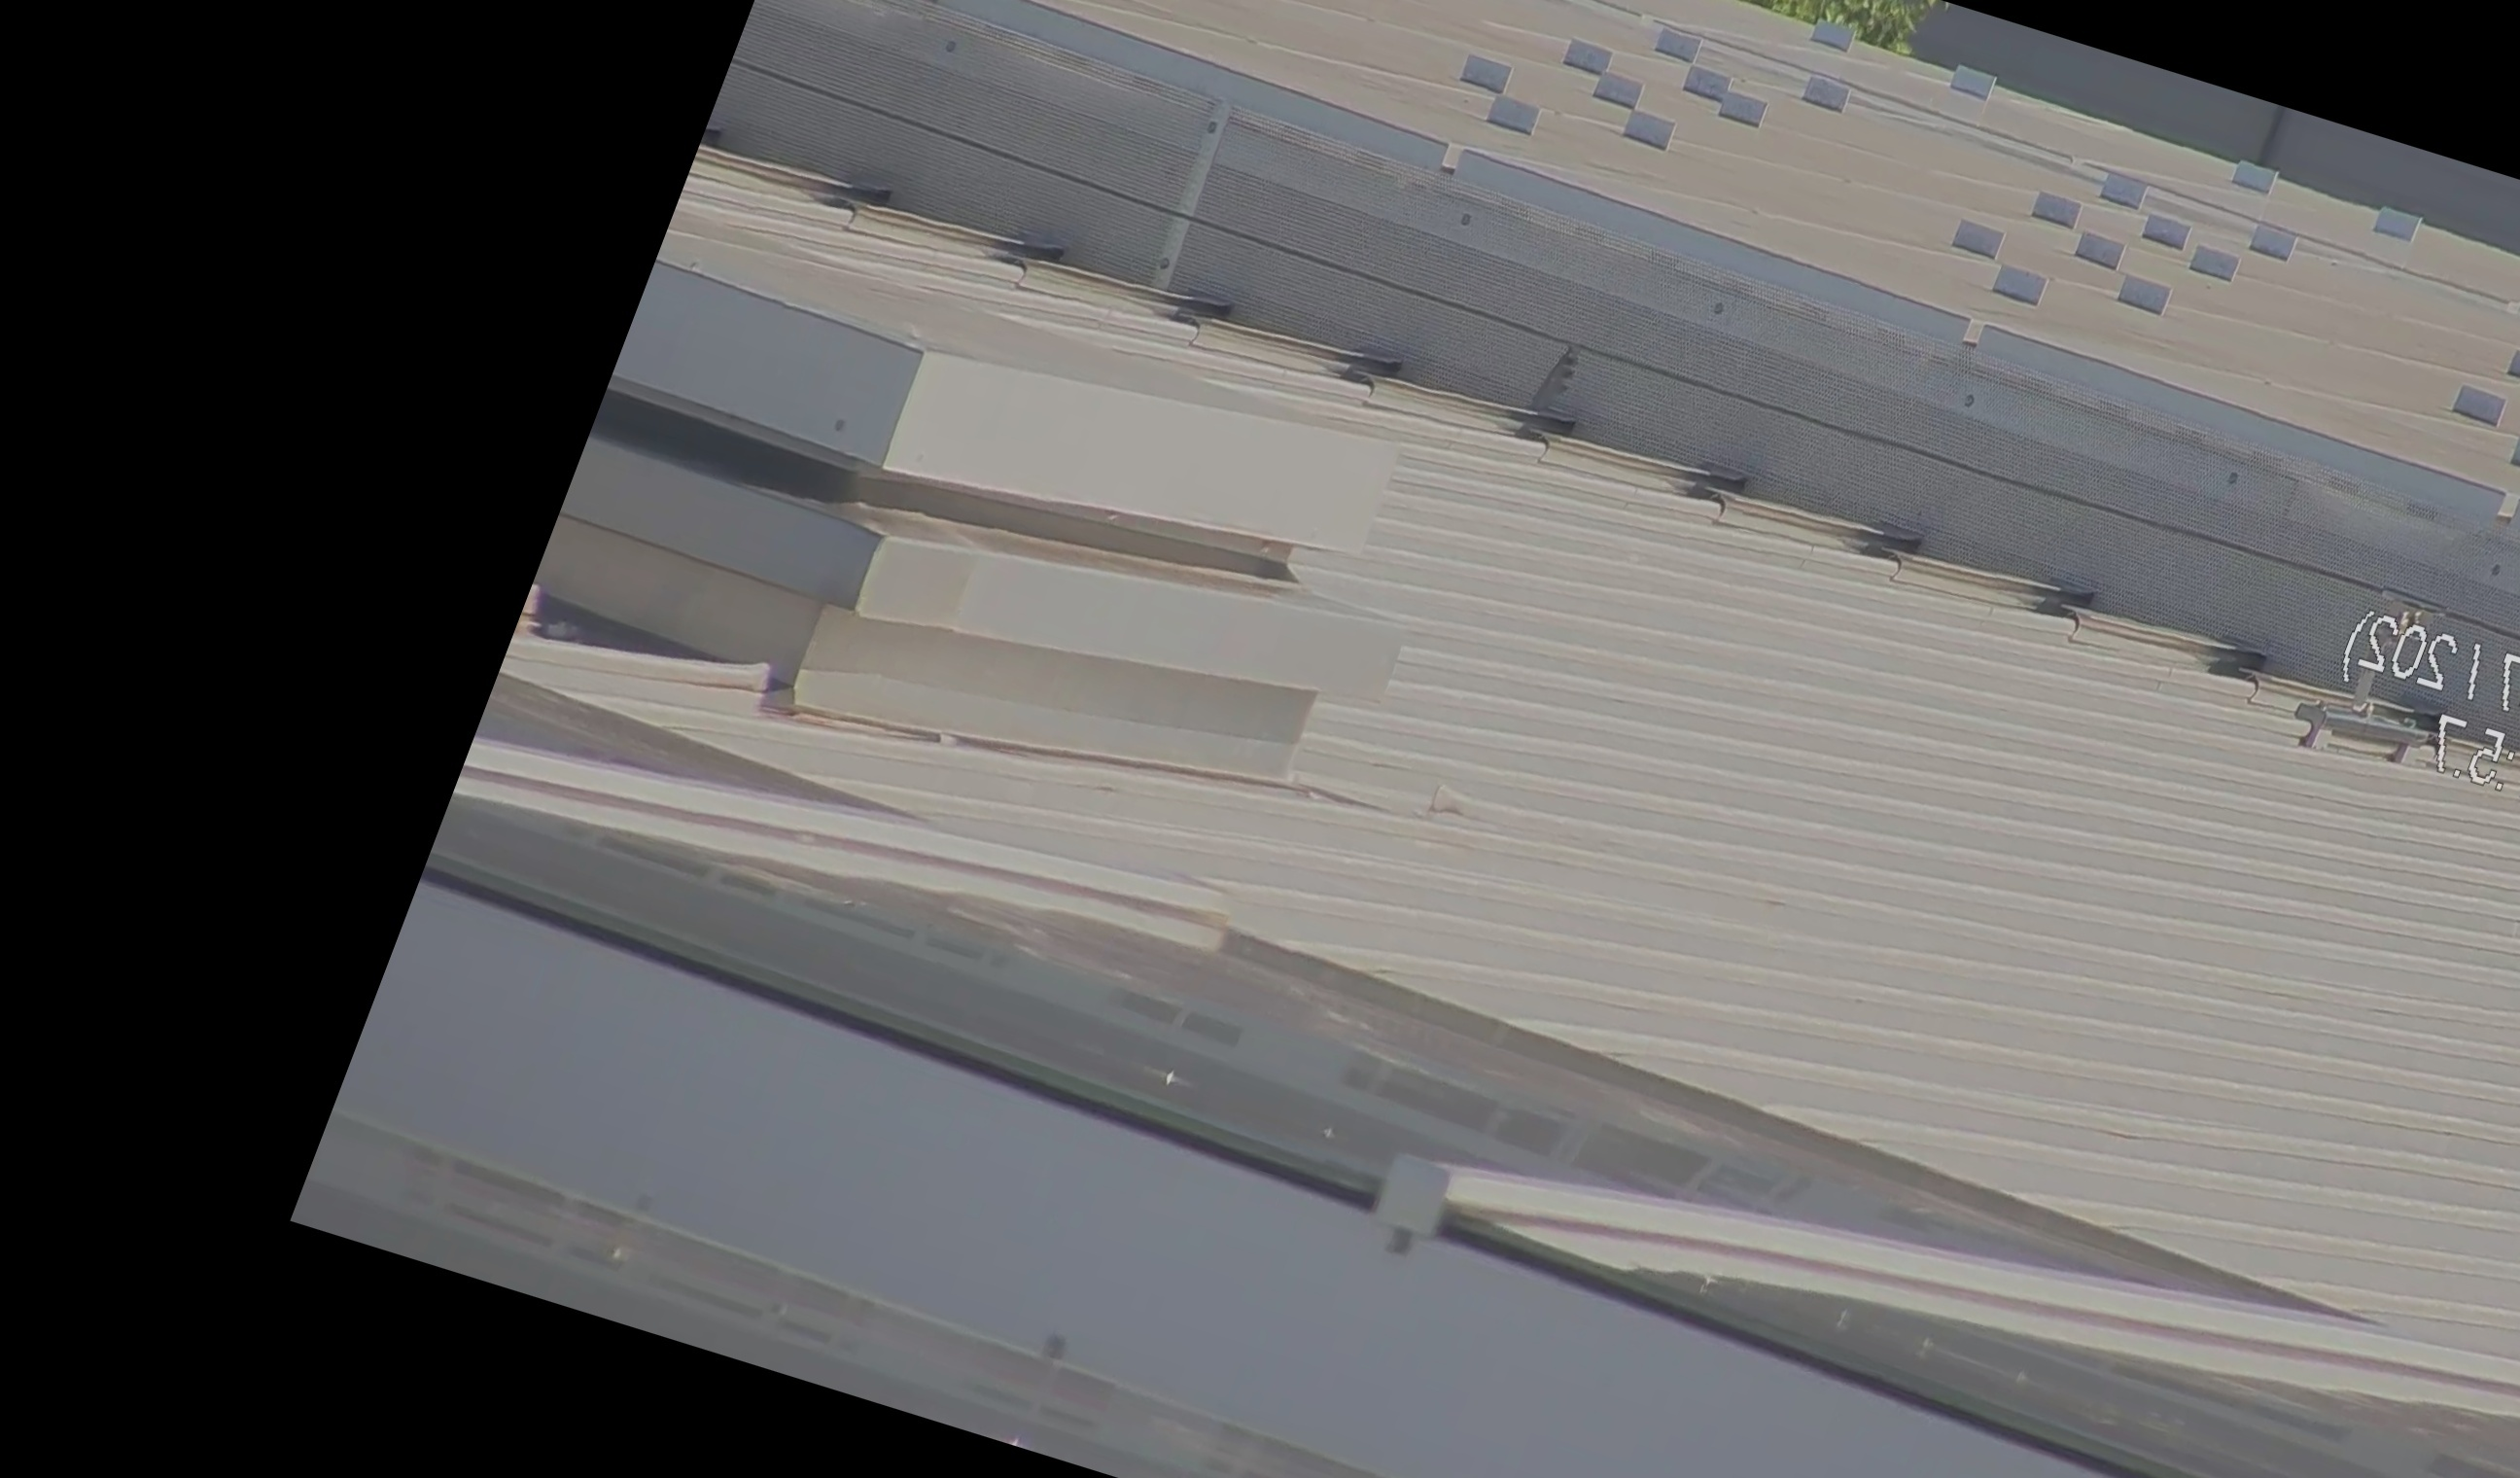Other: (1497, 311, 1611, 457)
